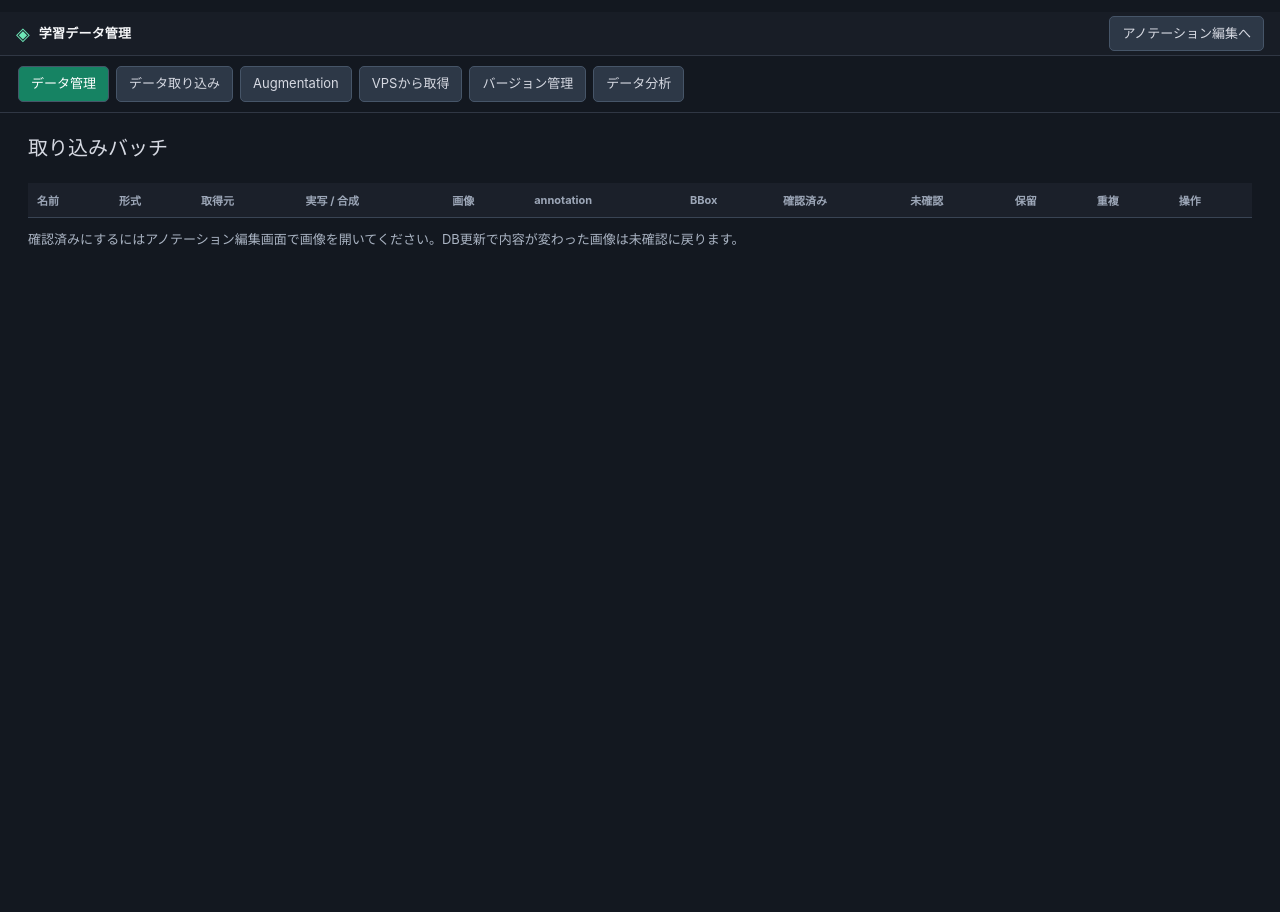
Test: releases the modal and shows the backend error when version creation fails
This screenshot has width=1280, height=912.
What coordinates should you click on to do the following:
click the button "バージョン管理"
I would click on:
 (528, 84)
Its box is [469, 66, 586, 102].
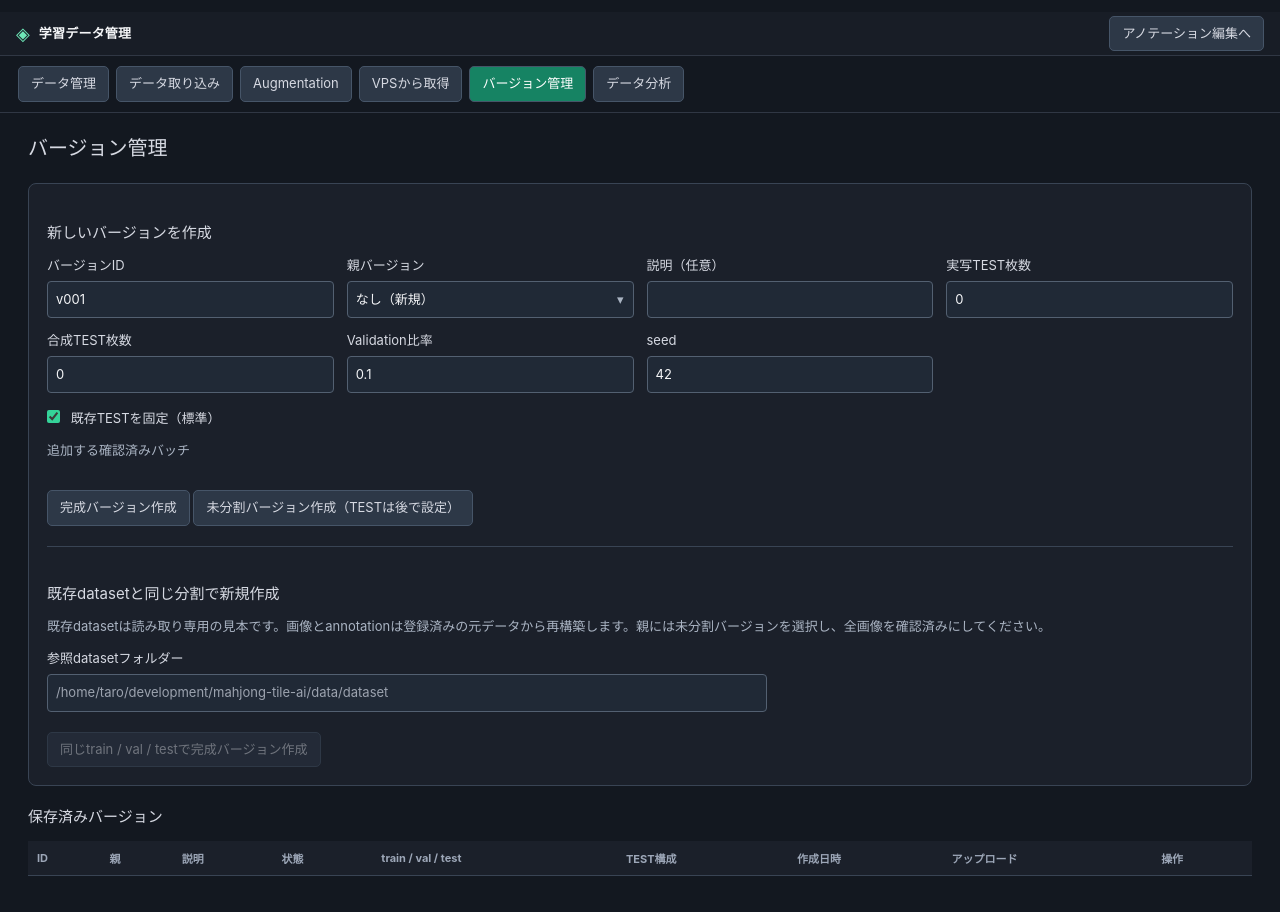
What coordinates should you click on to do the following:
click the button "未分割バージョン作成（TESTは後で設定）"
I would click on:
 (333, 508)
Its box is [193, 490, 473, 526].
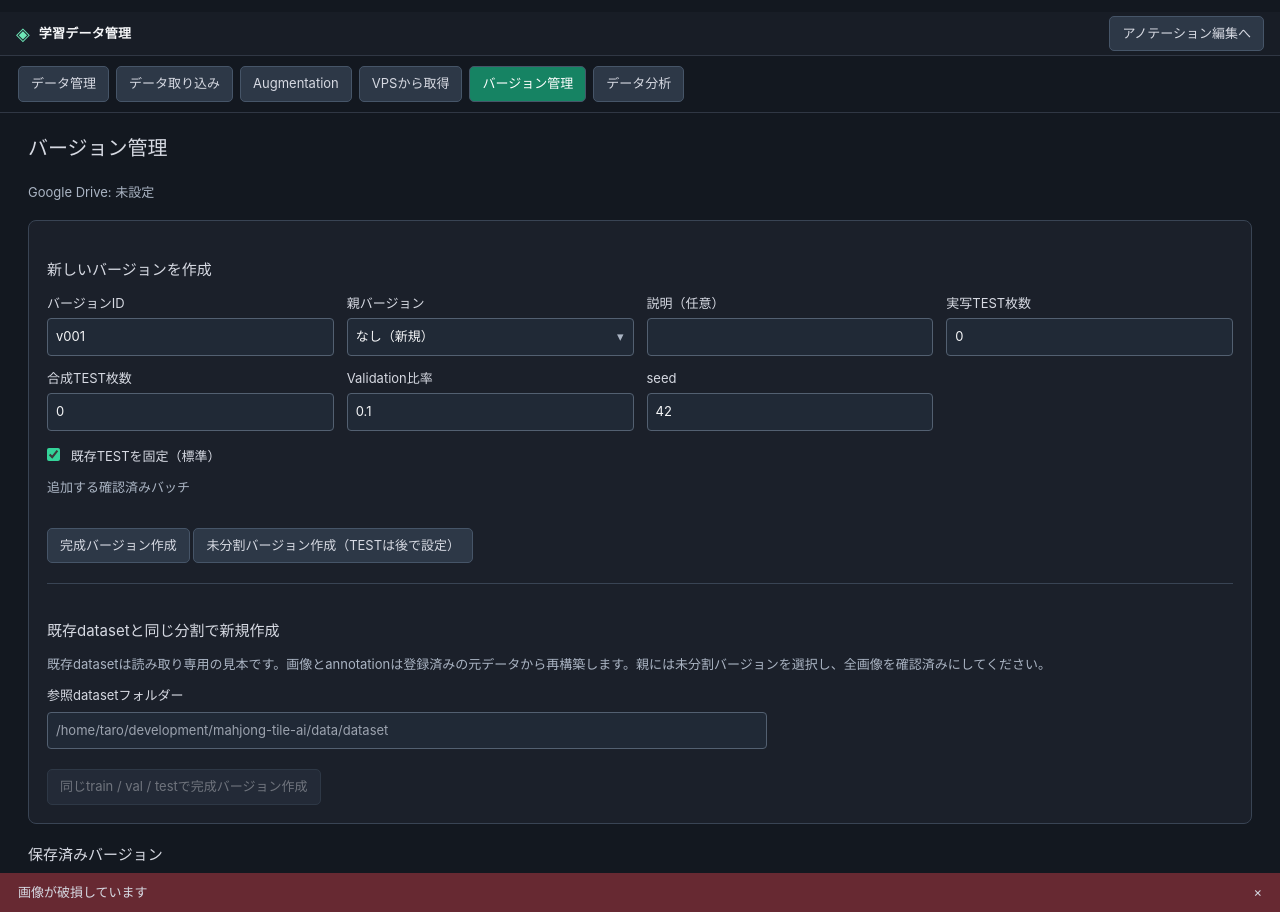
expect the text "画像が破損しています" is shown: met, box [18, 884, 148, 900]
